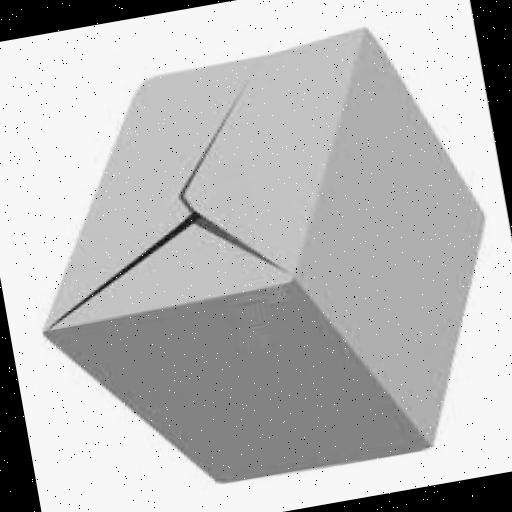cardboard: (3, 7, 512, 508)
